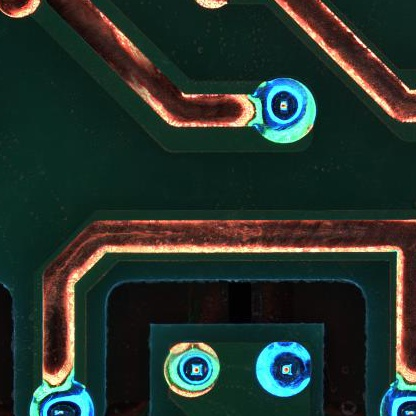spot: (252, 76, 318, 145), (253, 340, 313, 398), (163, 341, 220, 398)
